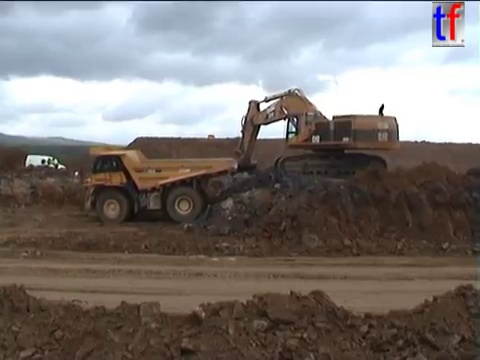excavator: (226, 86, 402, 190)
truck: (72, 144, 236, 225)
worker: (50, 155, 60, 173), (45, 156, 52, 172)
